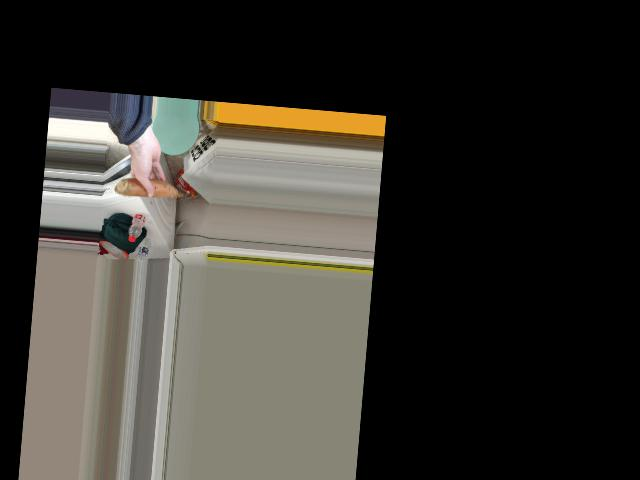sweet_potato: (120, 176, 181, 199)
